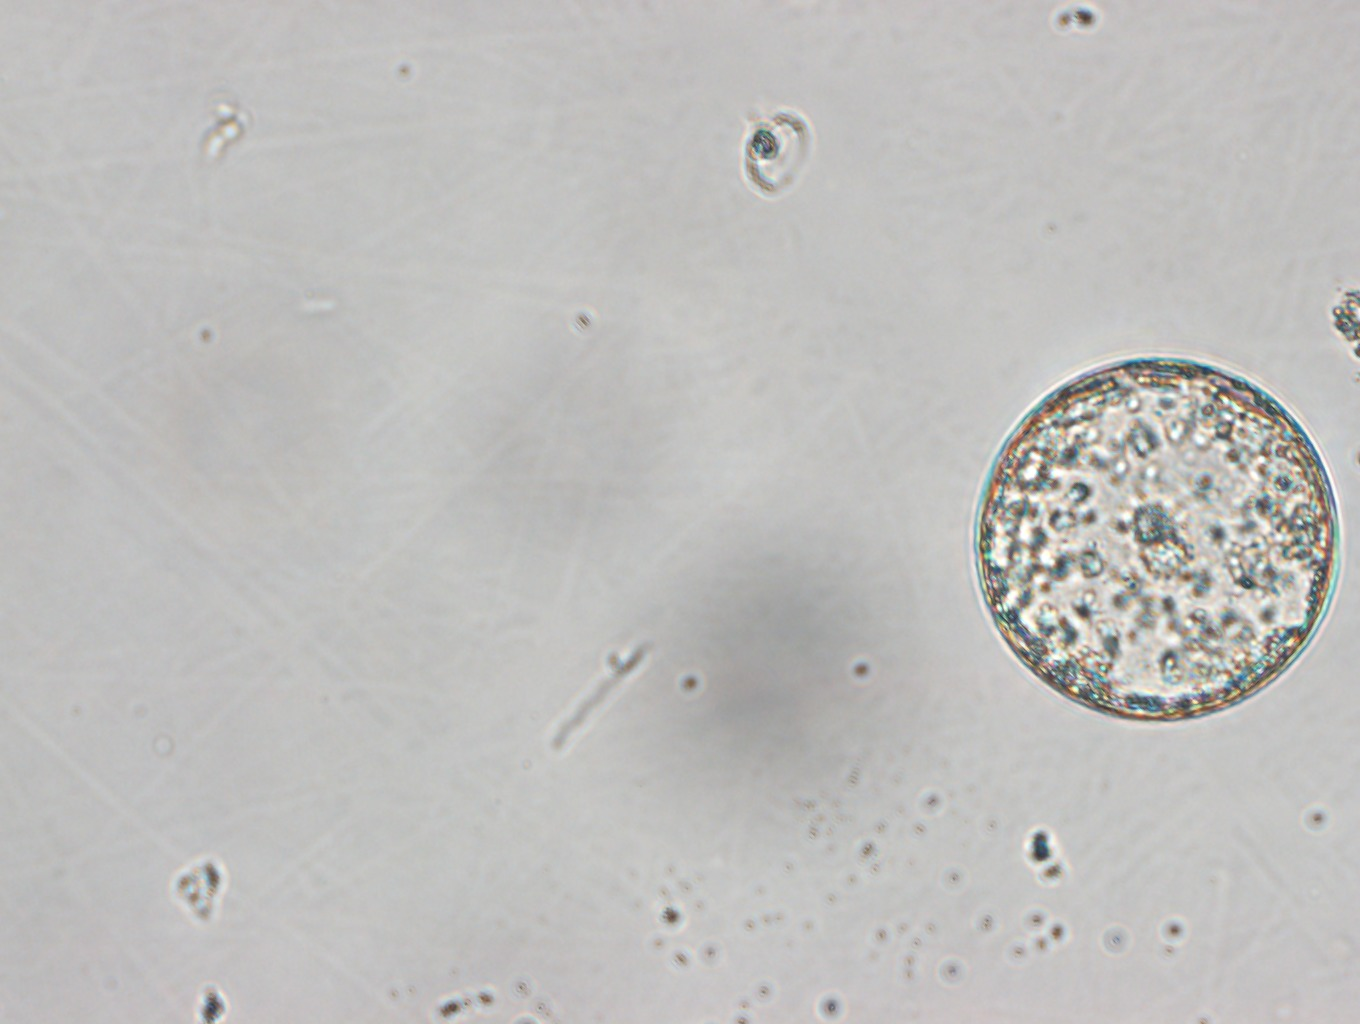coscinodiscus: (971, 357, 1340, 726)
